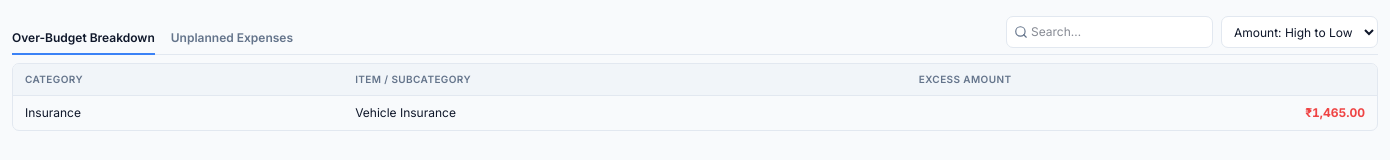
Scenario: BudgetFlagsTableInner › switches to the Unplanned tab on click and shows a plain "Amount" column
What coordinates should you click on to do the following:
click the tab "Unplanned Expenses"
I would click on:
 (232, 39)
Its box is left=171, top=23, right=293, bottom=55.
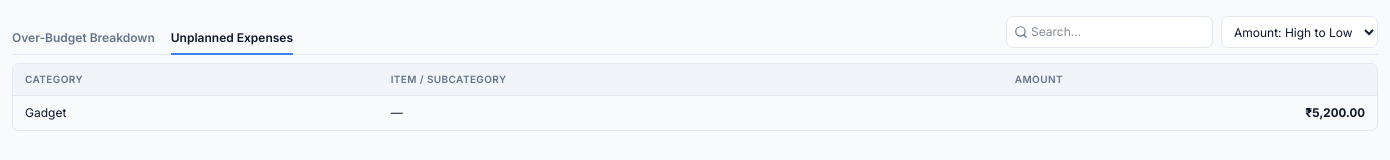
Now the column heading "Excess Amount" is gone
Now the text "Gadget" is shown, box left=13, top=96, right=379, bottom=130
Now the text "₹5,200.00" is shown, box left=1003, top=96, right=1377, bottom=130
